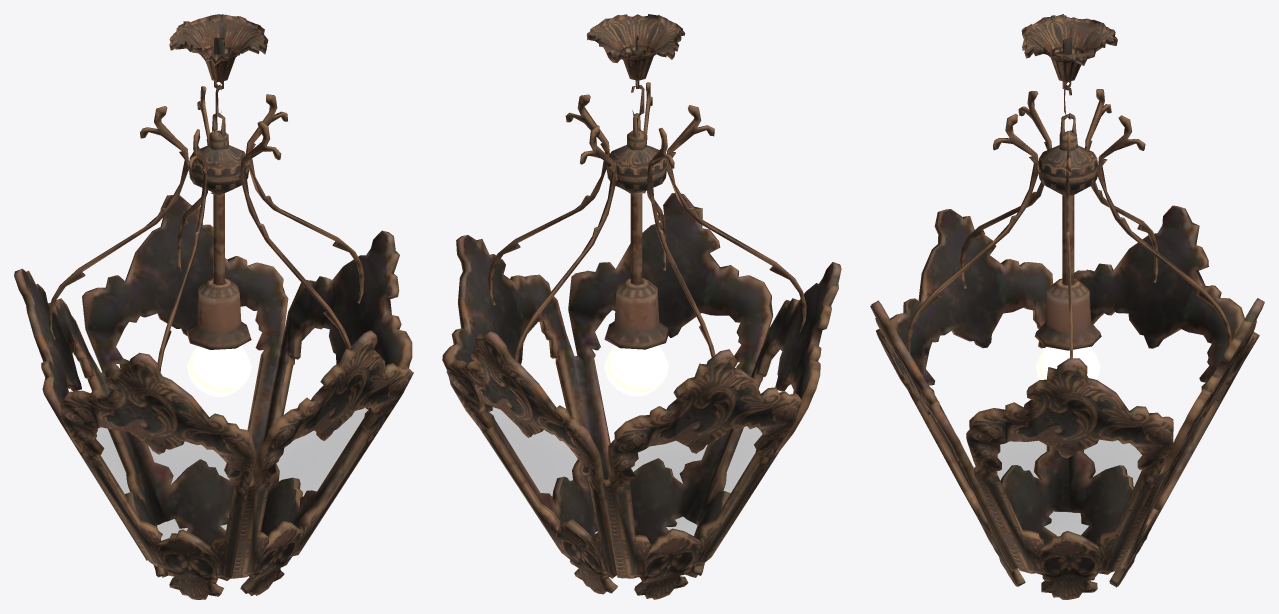
File: lantern_chandelier_01.glb
3 views of the same model, side by side, from view 1: azimuth 30°, elevation 25°; view 2: azimuth 150°, elevation 25°; view 3: azimuth 270°, elevation 25° (orthographic).
Parts seen in each view (by area): view 1: lantern_chandelier_01; view 2: lantern_chandelier_01; view 3: lantern_chandelier_01.
Boxes of the visible parts, <box> form: lantern_chandelier_01: <box>14,14,413,599</box>; lantern_chandelier_01: <box>442,14,841,599</box>; lantern_chandelier_01: <box>870,14,1264,599</box>.
Size of the model in its own units: 0.5792 by 0.8776 by 0.5746.
Materials: 3 (2 with a texture image).
